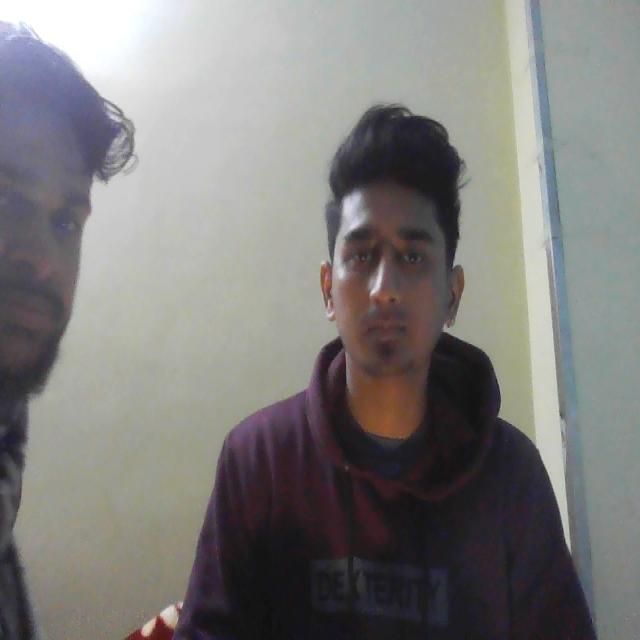real: (318, 123, 469, 408)
